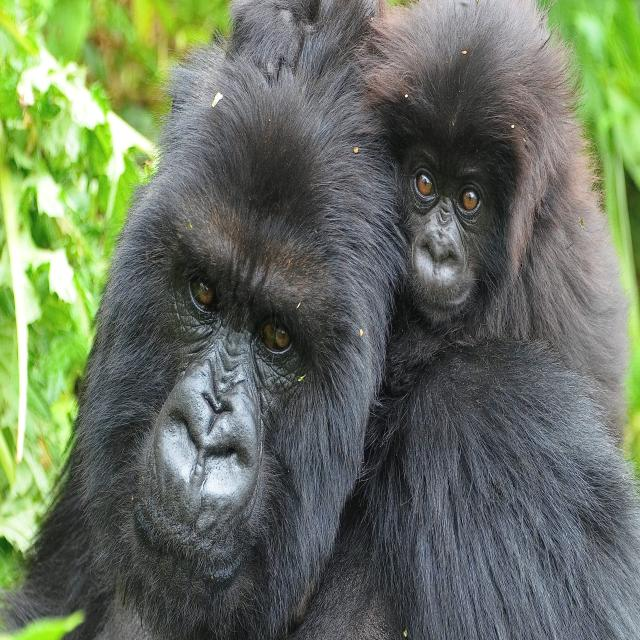Gorilla: (76, 0, 392, 640), (392, 0, 616, 437)
